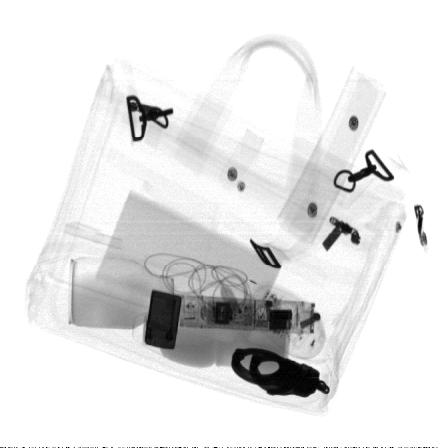Baton: (180, 296, 315, 334)
HandCuffs: (230, 346, 331, 399)
Lighter: (143, 290, 182, 348)
